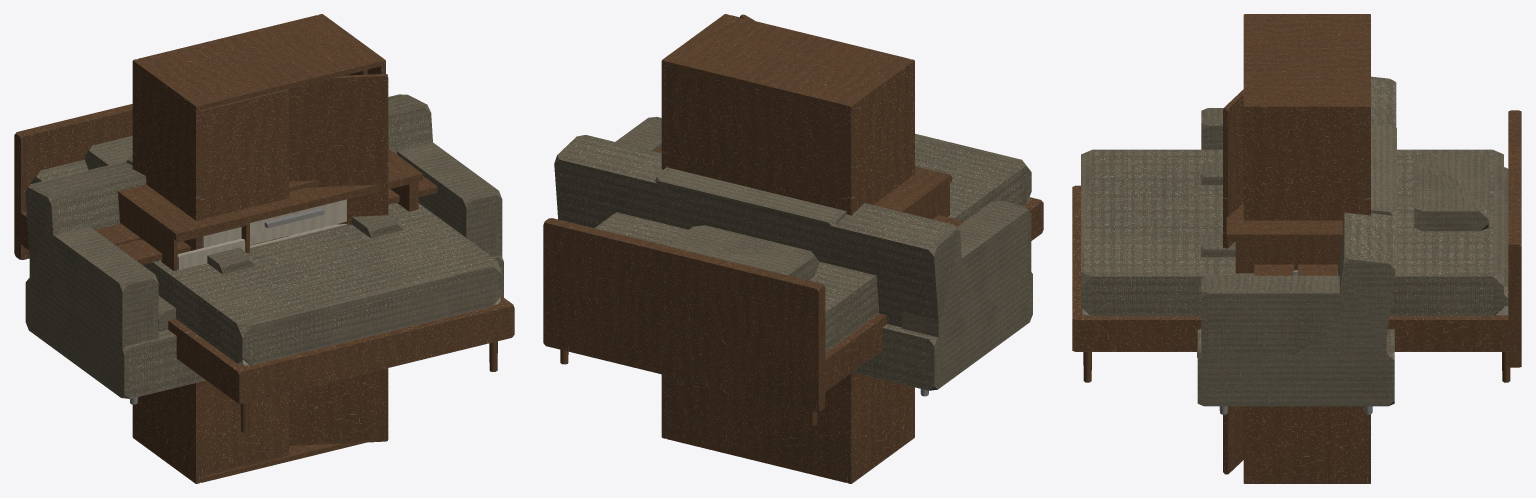
The model's file is propsInterior.glb.
3 renders of one model, left to right at view 1: azimuth 30°, elevation 25°; view 2: azimuth 150°, elevation 25°; view 3: azimuth 270°, elevation 25°, orthographic.
Parts seen in each view (by area): view 1: wardrobe_lod0_v0, chunk_5 (×3), couch_lod0_v0, bed_lod0_v0, chunk_2 (×3), chunk_4 (×3), chunk_3 (×2), chunk_1, dresser_lod0_v0, desk_lod1_v0, desk_lod0_v0, armchair_lod0_v0 (+2 smaller); view 2: wardrobe_lod0_v0, chunk_2 (×3), couch_lod0_v0, chunk_5 (×2), bed_lod0_v0, chunk_1 (×2), chunk_4 (×2), chunk_3, desk_lod0_v0; view 3: wardrobe_lod0_v0, bed_lod0_v0, chunk_5 (×2), couch_lod0_v0, chunk_4 (×2), chunk_2 (×3), chunk_1 (×3), chunk_3 (×2), desk_lod0_v0, desk_lod1_v0, mattress_lod1_v0.
Part boxes in pixels (x1,y1,x2,y2): wardrobe_lod0_v0: [132, 14, 387, 483]; chunk_5 (×3): [29, 160, 502, 432]; couch_lod0_v0: [25, 94, 503, 404]; bed_lod0_v0: [14, 104, 514, 432]; chunk_2 (×3): [21, 110, 502, 259]; chunk_4 (×3): [15, 212, 514, 403]; chunk_3 (×2): [318, 14, 418, 442]; chunk_1: [25, 99, 432, 290]; dresser_lod0_v0: [202, 180, 346, 248]; desk_lod1_v0: [118, 174, 422, 266]; desk_lod0_v0: [118, 192, 249, 270]; armchair_lod0_v0: [126, 159, 402, 273]; wardrobe_lod0_v0: [661, 14, 914, 483]; chunk_2 (×3): [543, 117, 951, 411]; couch_lod0_v0: [555, 145, 1032, 396]; chunk_5 (×2): [594, 133, 1030, 373]; bed_lod0_v0: [544, 166, 1043, 425]; chunk_1 (×2): [554, 135, 961, 332]; chunk_4 (×2): [818, 204, 1043, 393]; chunk_3: [661, 14, 754, 438]; desk_lod0_v0: [909, 184, 949, 219]; wardrobe_lod0_v0: [1223, 14, 1370, 483]; bed_lod0_v0: [1072, 110, 1521, 382]; chunk_5 (×2): [1081, 108, 1503, 315]; couch_lod0_v0: [1197, 76, 1396, 414]; chunk_4 (×2): [1072, 320, 1520, 406]; chunk_2 (×3): [1200, 203, 1386, 406]; chunk_1 (×3): [1335, 79, 1488, 414]; chunk_3 (×2): [1224, 95, 1370, 474]; desk_lod0_v0: [1226, 234, 1342, 273]; desk_lod1_v0: [1226, 234, 1342, 273]; mattress_lod1_v0: [1083, 167, 1508, 315].
Size of what is drawn, in the model's own units: 2 by 1.9 by 2.05.
Materials: 1 (1 with a texture image).
